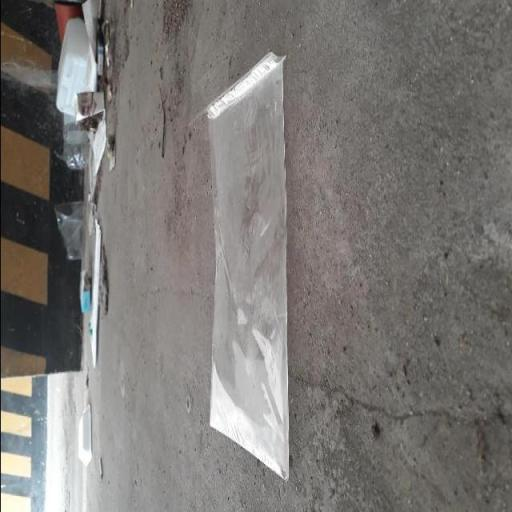plastic-bag: (203, 46, 291, 488)
